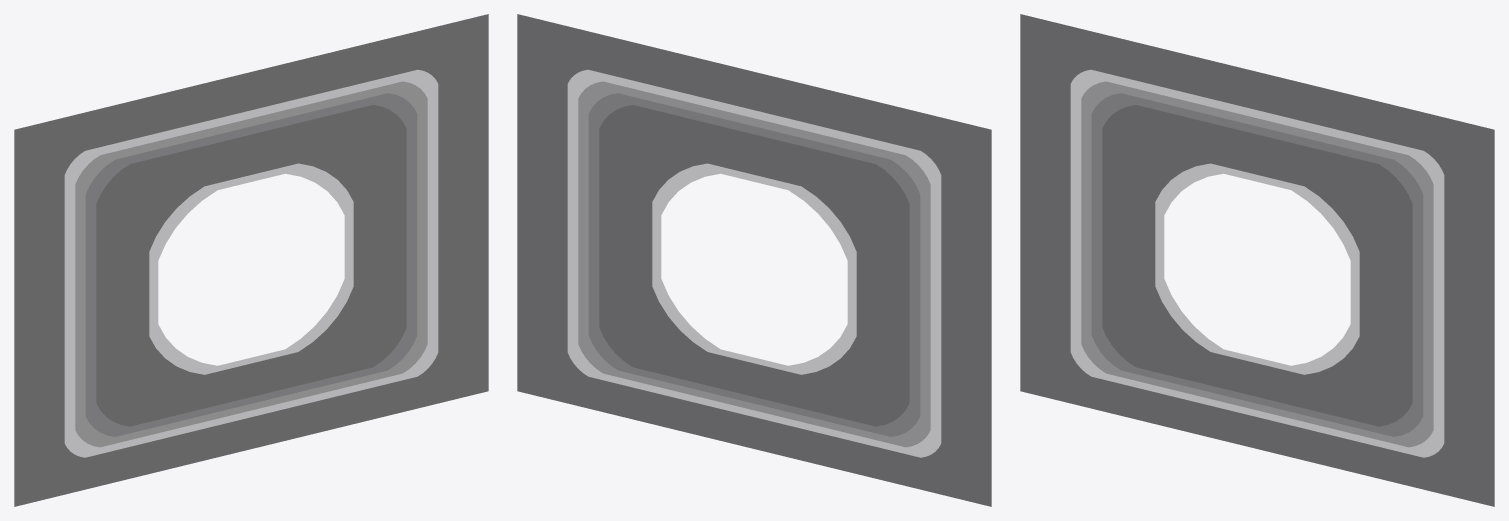
3 views of the same model, side by side, from view 1: azimuth 30°, elevation 25°; view 2: azimuth 150°, elevation 25°; view 3: azimuth 330°, elevation 25° (orthographic).
Visible parts, largest first — view 1: ef_164; view 2: ef_164; view 3: ef_164.
Part boxes in pixels (bbox=[...]): ef_164: bbox=[14, 14, 488, 506]; ef_164: bbox=[517, 14, 991, 506]; ef_164: bbox=[1020, 14, 1494, 506].
Bounding box in the file's own units: 1.77 × 1.35 × 0.
Materials: 1 (1 with a texture image).
